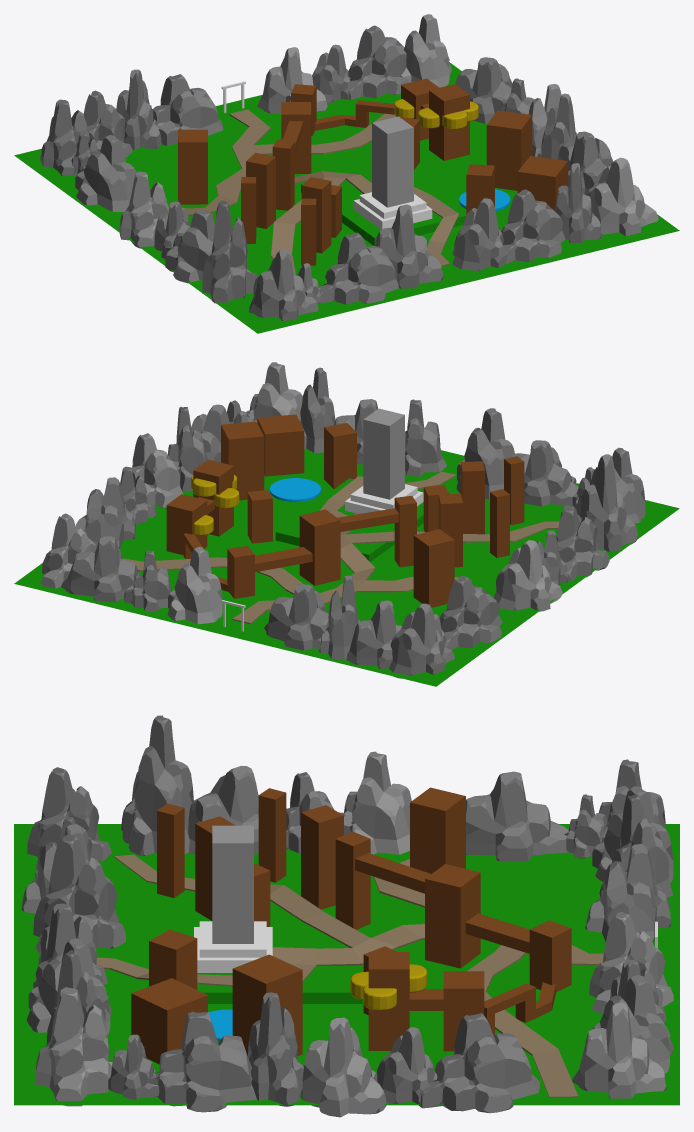
Rendered from hub_forest.fbx.
The picture shows the model from 3 angles, top to bottom: view 1: azimuth 30°, elevation 25°; view 2: azimuth 150°, elevation 25°; view 3: azimuth 270°, elevation 25°; orthographic projection. The views are drawn at different scales.
Visible parts, largest first — view 1: sol, Cube.035, Cube.009, Cube.001, Cube.033, Cube.005, moutagnge, Cube.026, Cube.015, Cube.008, Cube.030, Cube.012 (+35 smaller); view 2: sol, Cube.035, Cube.033, Cube.015, Cube.001, Cube.026, Cube.013, Cube.018, Cube.030, Cube.028, Cube.014, Cube.009 (+35 smaller); view 3: sol, Cube.035, Cube.020, Cube.024, Cube.015, moutagnge, Cube.022, Cube.001, Cube.008, moutagnge.001, Cube.049, Cube.033 (+39 smaller).
Part boxes in pixels (box(x1,y1,x2,y2)): sol: box(14, 62, 679, 333); Cube.035: box(168, 109, 458, 275); Cube.009: box(318, 232, 398, 304); Cube.001: box(202, 200, 257, 303); Cube.033: box(372, 116, 413, 207); Cube.005: box(501, 189, 565, 263); moutagnge: box(585, 157, 658, 235); Cube.026: box(347, 25, 409, 99); Cube.015: box(75, 135, 136, 211); Cube.008: box(375, 204, 443, 288); Cube.030: box(152, 74, 223, 145); Cube.012: box(248, 249, 318, 320); sol: box(14, 448, 679, 686); Cube.035: box(122, 471, 559, 624); Cube.033: box(363, 408, 404, 499); Cube.015: box(439, 575, 502, 649); Cube.001: box(576, 454, 637, 551); Cube.026: box(61, 536, 139, 602); Cube.013: box(493, 540, 562, 611); Cube.018: box(389, 603, 454, 678); Cube.030: box(264, 584, 328, 650); Cube.028: box(167, 547, 222, 624); Cube.014: box(413, 529, 454, 607); Cube.009: box(510, 440, 578, 506); sol: box(14, 824, 679, 1105); Cube.035: box(96, 854, 603, 1097); Cube.020: box(419, 1013, 539, 1113); Cube.024: box(149, 1011, 256, 1112); Cube.015: box(466, 771, 568, 861); moutagnge: box(36, 987, 112, 1106); Cube.022: box(300, 1017, 386, 1117); Cube.001: box(121, 715, 193, 855); Cube.008: box(33, 834, 125, 952); moutagnge.001: box(572, 1002, 666, 1098); Cube.049: box(425, 864, 480, 968); Cube.033: box(212, 825, 253, 943).
Size of the model in its own units: 20837 by 4986 by 20000.
